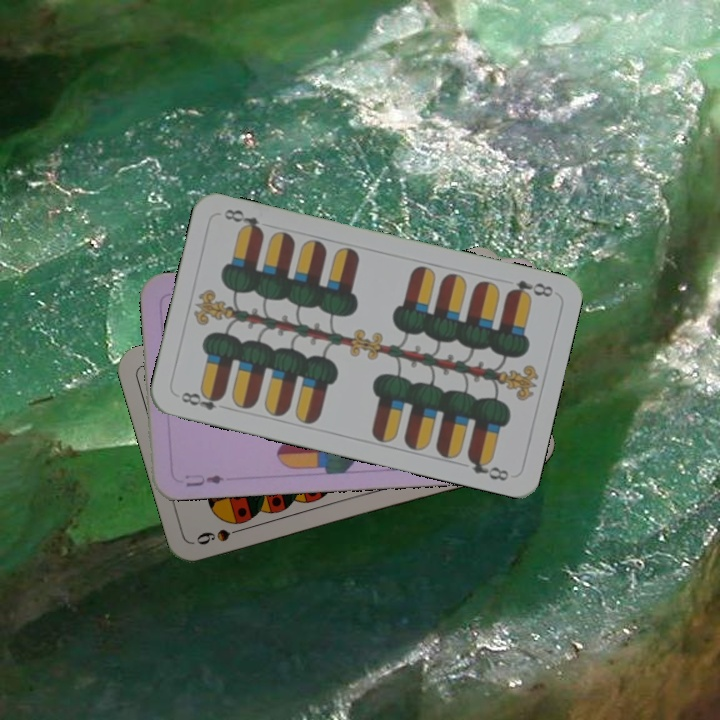E8: (503, 276, 556, 302), (176, 386, 226, 413)
EU: (180, 470, 227, 489)
S9: (192, 522, 251, 548)
